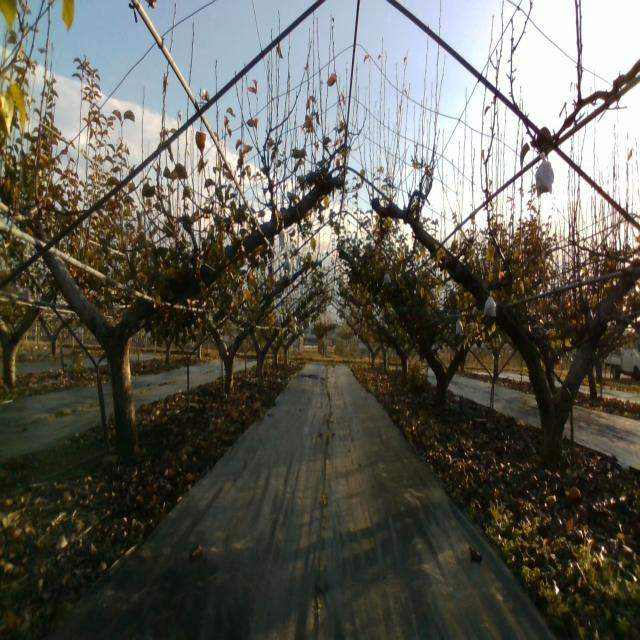pearbags: (536, 152, 554, 198), (483, 289, 497, 319)
